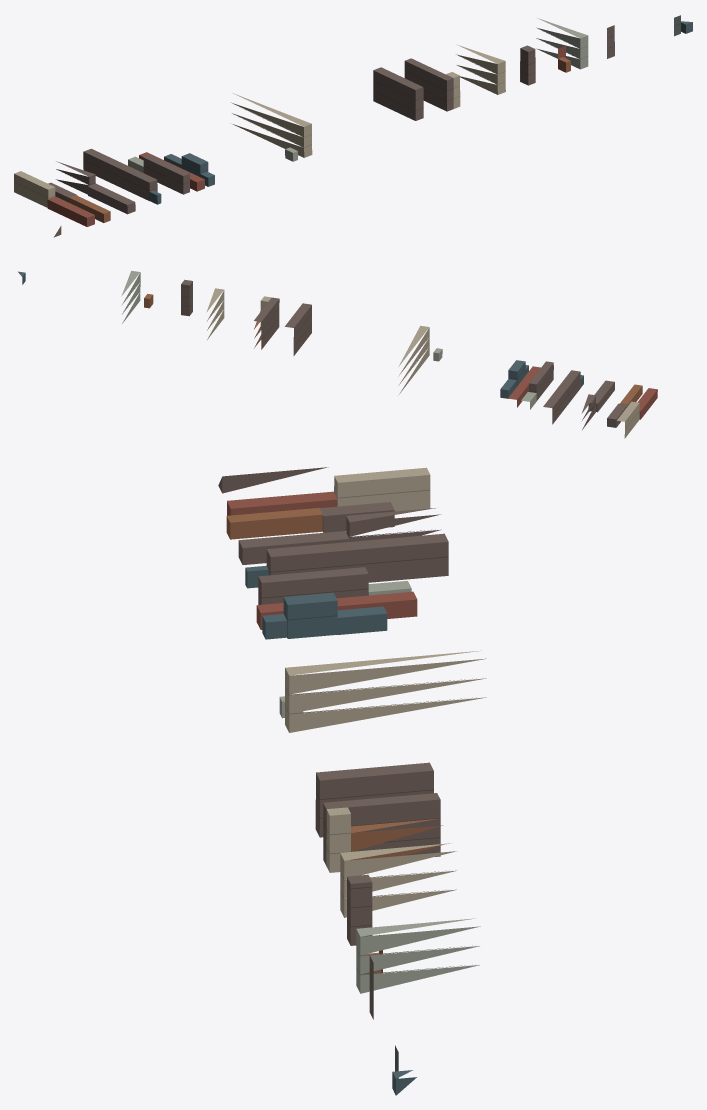
The model's file is terminal-28---123_-19.glb.
3 renders of one model, top to bottom at view 1: azimuth 30°, elevation 25°; view 2: azimuth 150°, elevation 25°; view 3: azimuth 270°, elevation 25°, orthographic. The views are drawn at different scales.
Visible parts, largest first — view 1: measured-industrial; view 2: measured-industrial; view 3: measured-industrial.
Part boxes in pixels (box(x1,y1,x2,y2)): measured-industrial: box(14, 15, 692, 237); measured-industrial: box(18, 270, 657, 438); measured-industrial: box(218, 467, 486, 1095).
Bounding box in the file's own units: 201 × 10.09 × 37.16.
